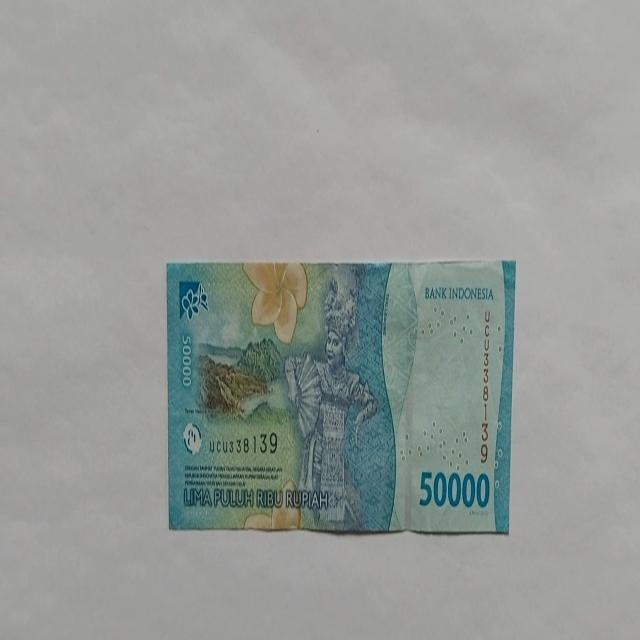lima puluh ribu rupiah: (166, 259, 516, 535)
